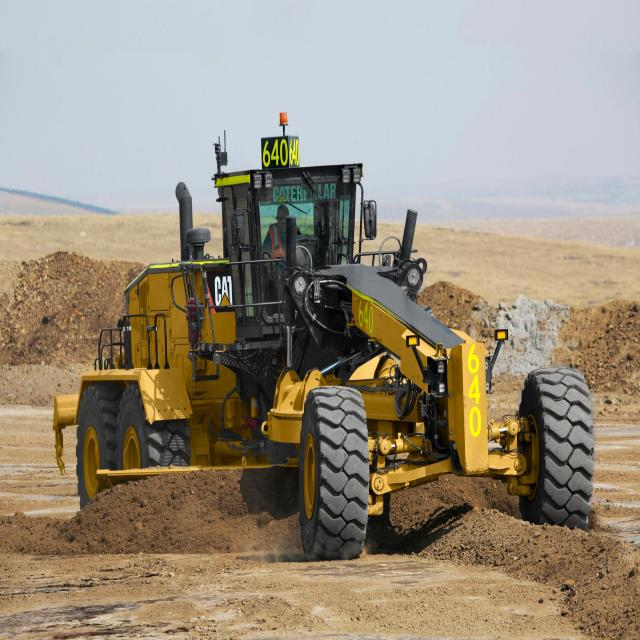Grader: (70, 119, 614, 581)
